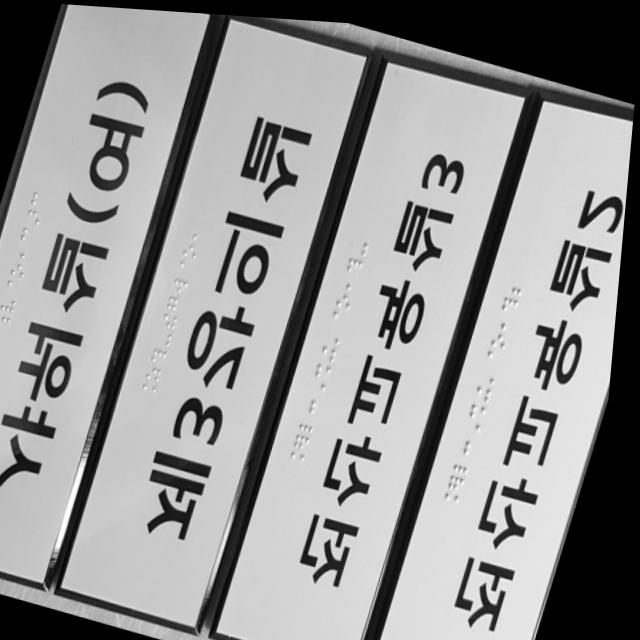braiile: (448, 482, 471, 505), (478, 375, 501, 398), (293, 442, 315, 466), (509, 268, 532, 290), (144, 376, 166, 399), (189, 218, 211, 241), (463, 428, 485, 450), (489, 339, 511, 361), (318, 356, 340, 378), (473, 393, 496, 414), (334, 301, 355, 324), (154, 342, 177, 363), (484, 356, 505, 378), (504, 287, 525, 309), (304, 408, 326, 429), (309, 391, 330, 413), (324, 337, 345, 359), (339, 284, 360, 306), (349, 250, 370, 272), (354, 232, 375, 254), (151, 358, 172, 380), (165, 307, 186, 329), (170, 290, 191, 312), (469, 411, 490, 432), (499, 305, 520, 326), (314, 373, 335, 394), (3, 293, 24, 314), (455, 464, 475, 486), (300, 425, 320, 447), (329, 319, 349, 341), (345, 267, 365, 289), (176, 272, 196, 294), (180, 255, 200, 277), (185, 237, 205, 259), (495, 322, 515, 343), (161, 325, 181, 346), (460, 448, 480, 468), (0, 311, 19, 331), (29, 206, 48, 226), (33, 188, 52, 208), (9, 276, 27, 296), (14, 259, 32, 279), (19, 242, 37, 262), (24, 224, 42, 244), (0, 327, 15, 347)
